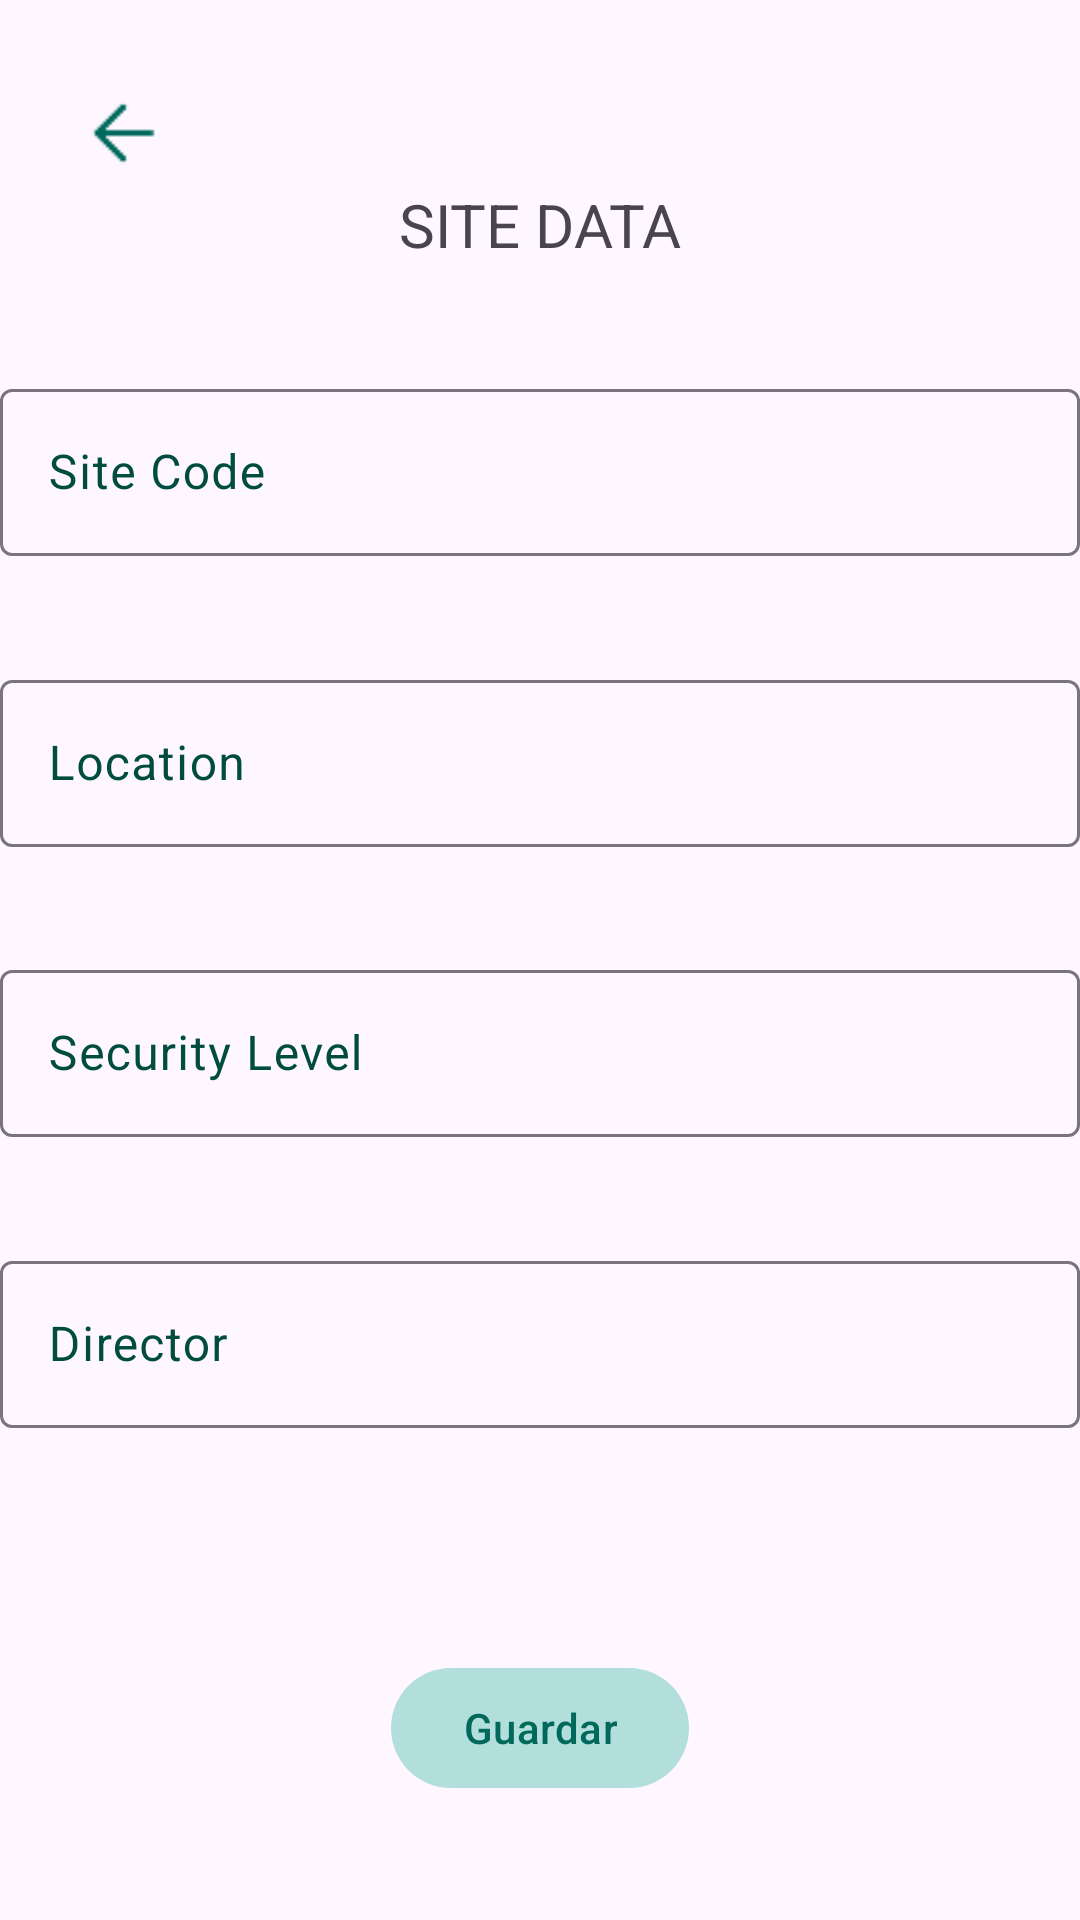

Icon click points for this 1080px×1920px phone screenshot, format [x,y]:
arrow back: [124,133]
